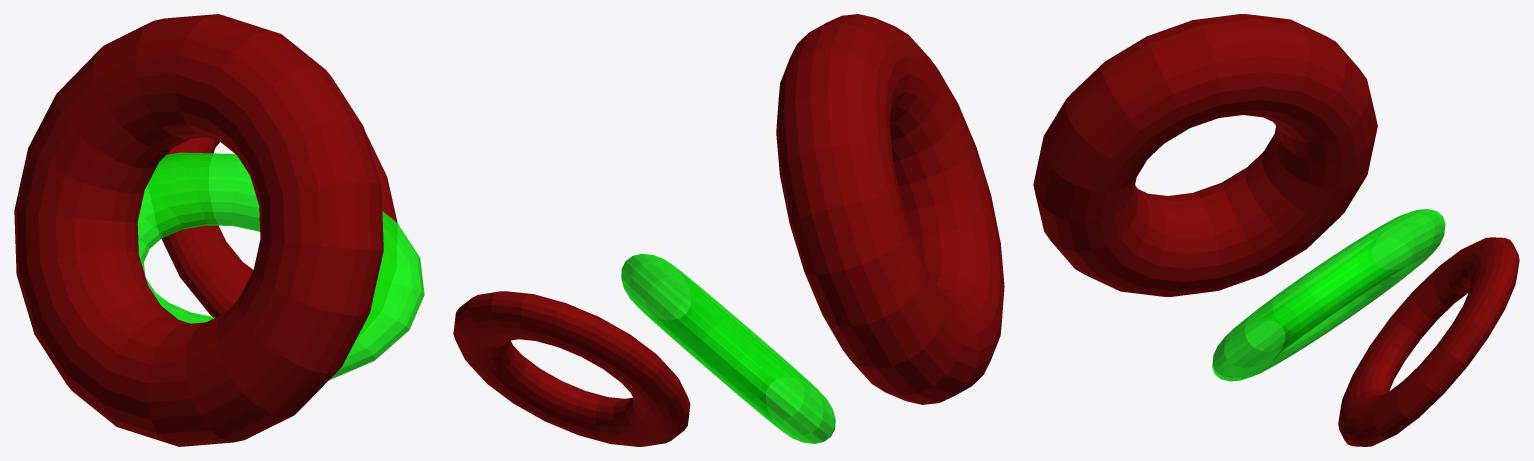
The model's file is effect_constant_transparent_a_zero.dae.
3 renders of one model, left to right at view 1: azimuth 30°, elevation 25°; view 2: azimuth 150°, elevation 25°; view 3: azimuth 270°, elevation 25°, orthographic. The views are drawn at different scales.
Parts seen in each view (by area): view 1: pTorus3, pTorus1, pTorus2; view 2: pTorus3, pTorus2, pTorus1; view 3: pTorus3, pTorus2, pTorus1.
Part boxes in pixels (x1,y1,x2,y2): pTorus3: (14, 14, 383, 446); pTorus1: (137, 152, 424, 380); pTorus2: (161, 132, 397, 317); pTorus3: (776, 14, 1004, 404); pTorus2: (453, 291, 690, 446); pTorus1: (621, 253, 835, 443); pTorus3: (1033, 14, 1377, 296); pTorus2: (1338, 237, 1519, 446); pTorus1: (1212, 209, 1445, 381).
Bounding box in the file's own units: 308 × 283 × 357.
